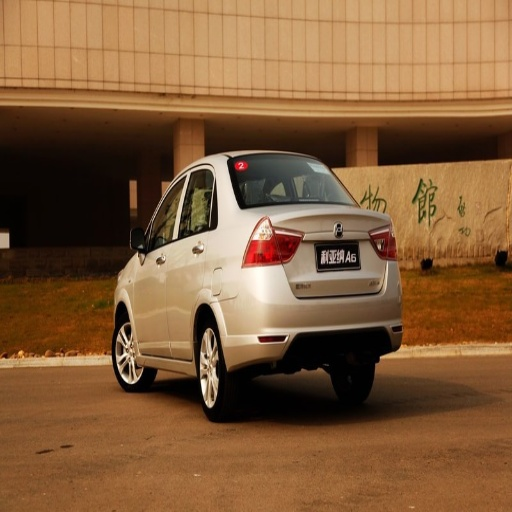back_bumper: (222, 267, 404, 366)
back_glass: (229, 155, 353, 207)
back_left_door: (168, 172, 211, 358)
